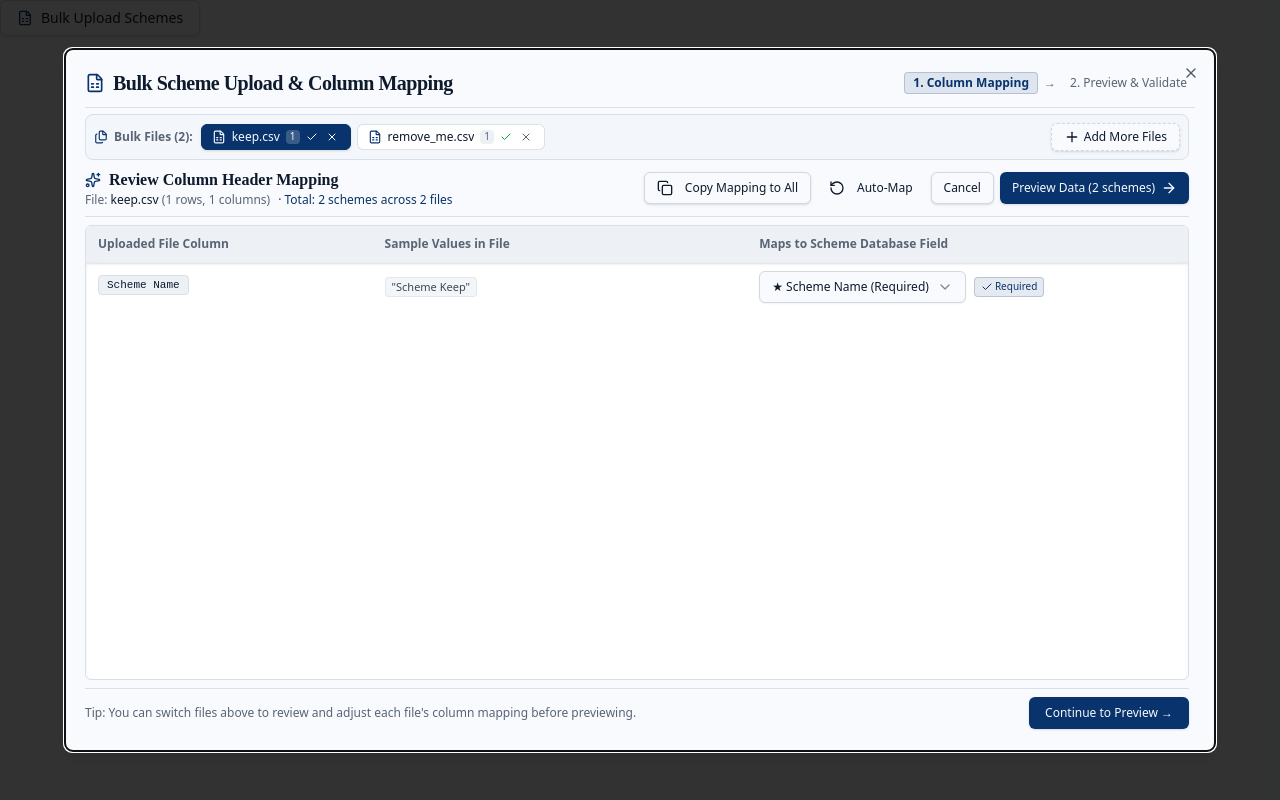
Test: Multiple Bulk Data Upload Tests › allows removing an uploaded file from the batch
Earlier steps of the test are not shown.
expect the text "remove_me.csv" is shown: met, box [388, 129, 474, 145]
What coordinates should you click on to do the following:
click the button titled "Remove remove_me.csv"
I would click on:
 (526, 137)
Its box is [518, 129, 534, 145].
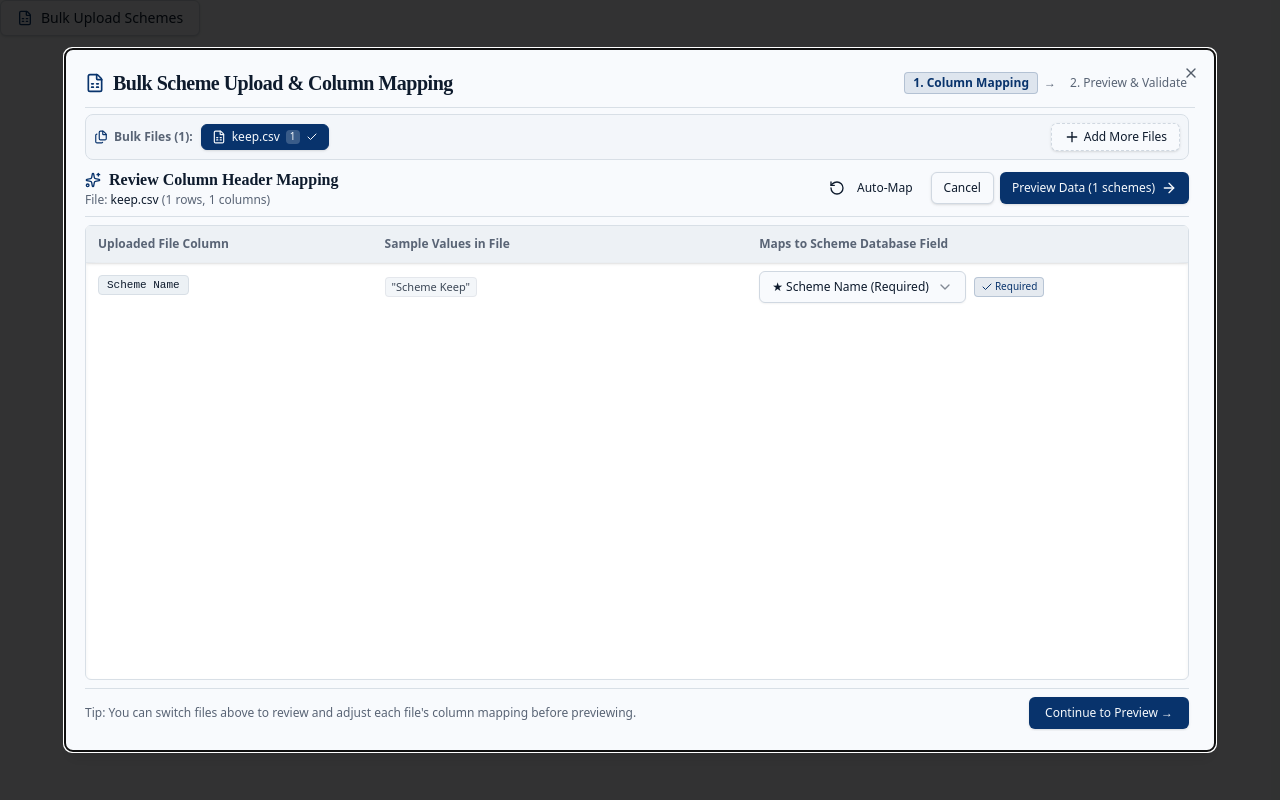
expect the text "remove_me.csv" is gone: met
What coordinates should you click on to do the following:
click the button "Preview Data (1 schemes)"
I would click on:
 (1094, 188)
Its box is [1000, 172, 1189, 204].
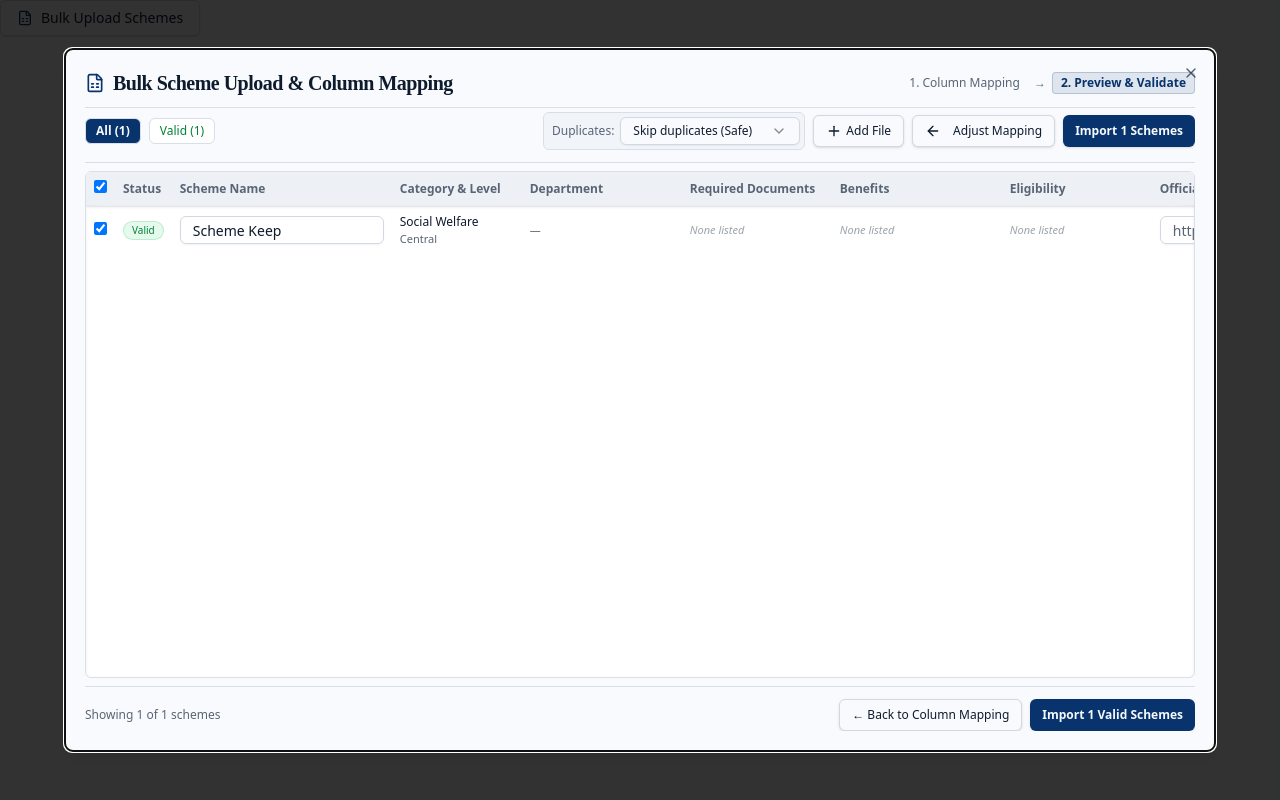
expect the text "Showing 1 of 1 schemes" is shown: met, box [85, 707, 220, 723]
expect the field showing "Scheme Keep" is shown: met, box [180, 216, 384, 244]
